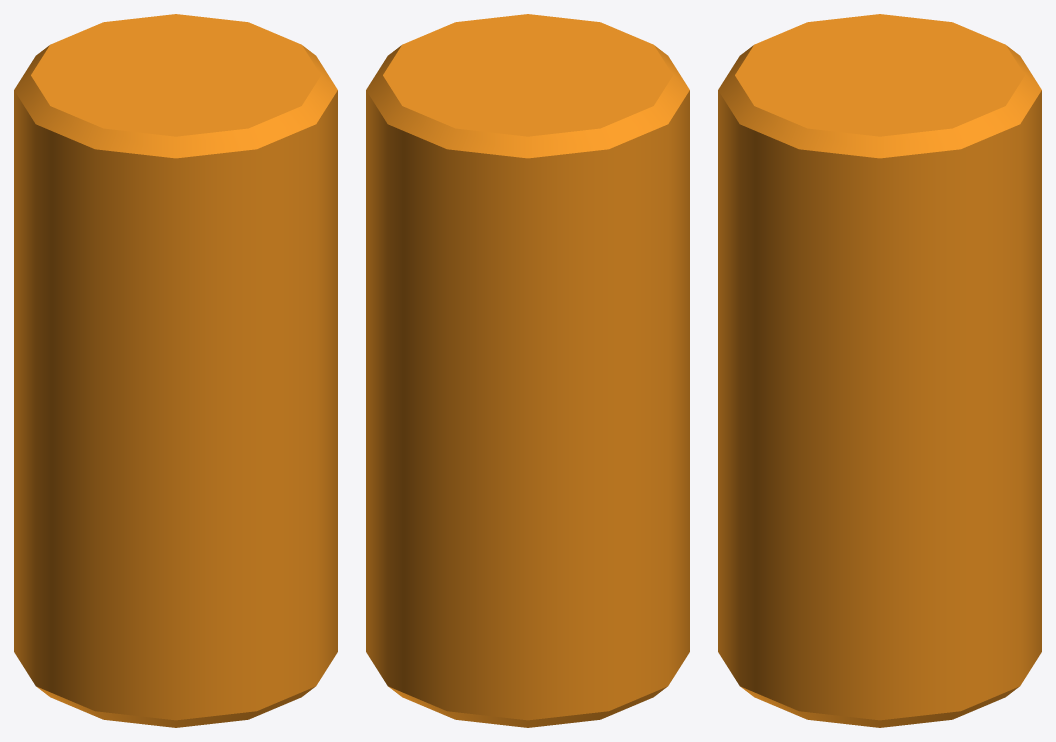
The model's file is ThrowProp_BuildingBlock_CylinderM.FBX.
The picture shows the model from 3 angles, left to right: view 1: azimuth 30°, elevation 25°; view 2: azimuth 150°, elevation 25°; view 3: azimuth 270°, elevation 25°; orthographic projection.
Visible parts, largest first — view 1: BuildingBlock_CylinderM; view 2: BuildingBlock_CylinderM; view 3: BuildingBlock_CylinderM.
Part boxes in pixels (x1=…): BuildingBlock_CylinderM: x1=14, y1=14, x2=337, y2=727; BuildingBlock_CylinderM: x1=366, y1=14, x2=689, y2=727; BuildingBlock_CylinderM: x1=718, y1=14, x2=1041, y2=727.
Bounding box in the file's own units: 5 × 10.07 × 5.
1 material, 1 textured.
